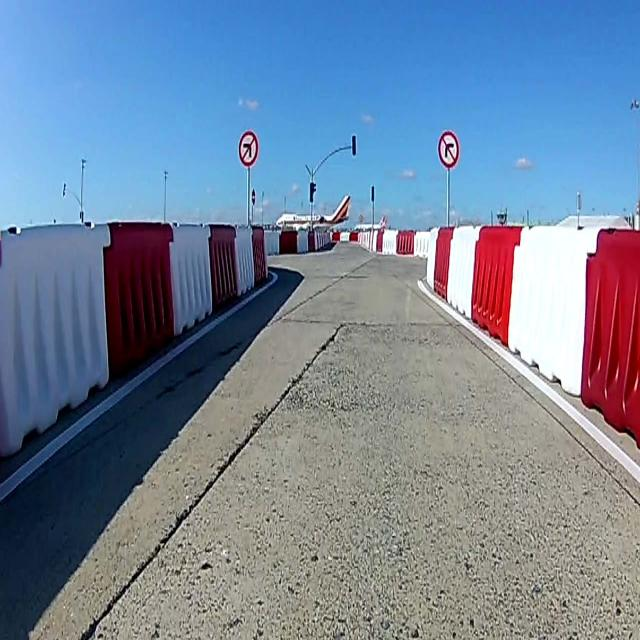sagadonulmez: (439, 131, 458, 166)
soladonulmez: (238, 129, 258, 165)
